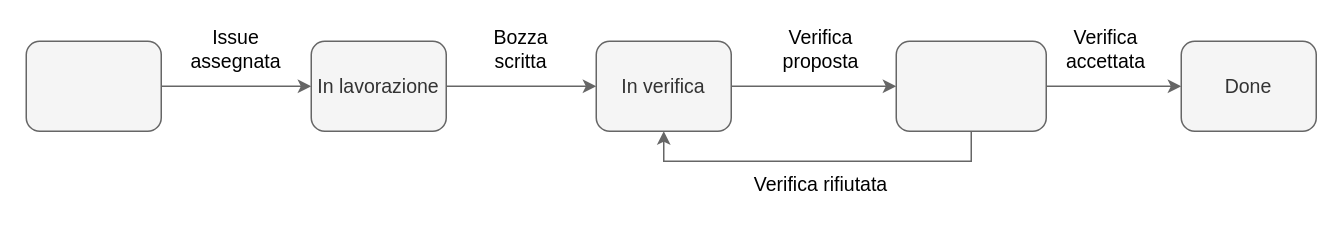
Image size: 1343x233. Some labels were removed from this diagram. The shapes that lost their labels are listed below. From the top down, each one's centre as x and y in pixels, then its label:
[93,85]: Backlog
[970,85]: In approvazione
